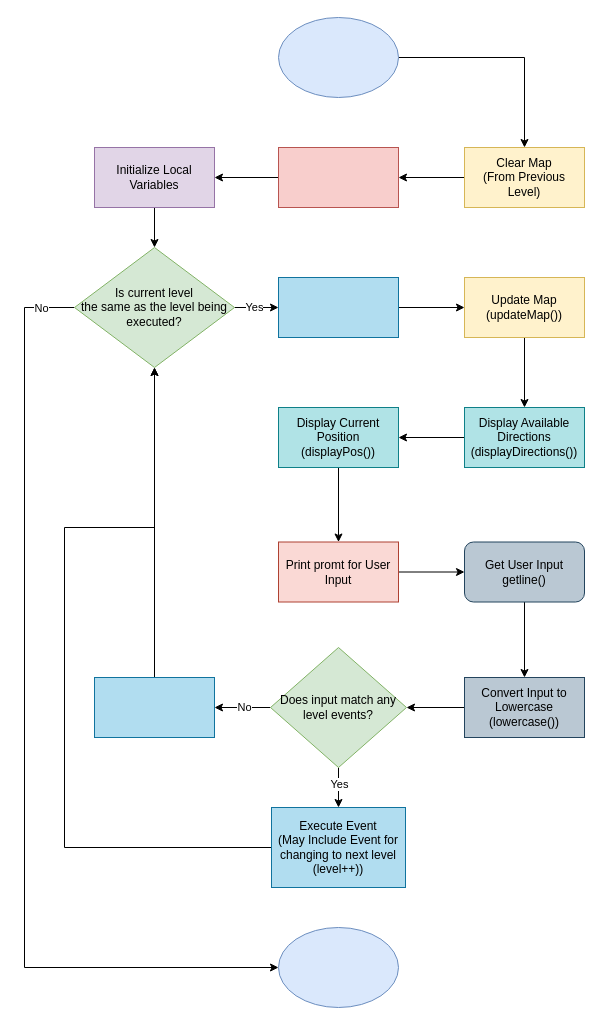
Image size: 602x1025. Some labels were removed from this diagram. The box of each missing label's shape, as (x1, y1, x2, y2) in pixels:
checkPos() for checking events at current location: (278, 276, 398, 338)
End Level: (278, 926, 398, 1008)
Leve Start: (278, 16, 398, 98)
Pass User Input to computeInput(): (94, 676, 214, 738)
Start Music: (278, 146, 398, 208)
